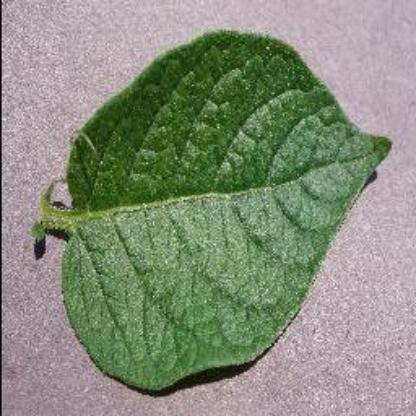Healthy-plant: (36, 25, 390, 395)
